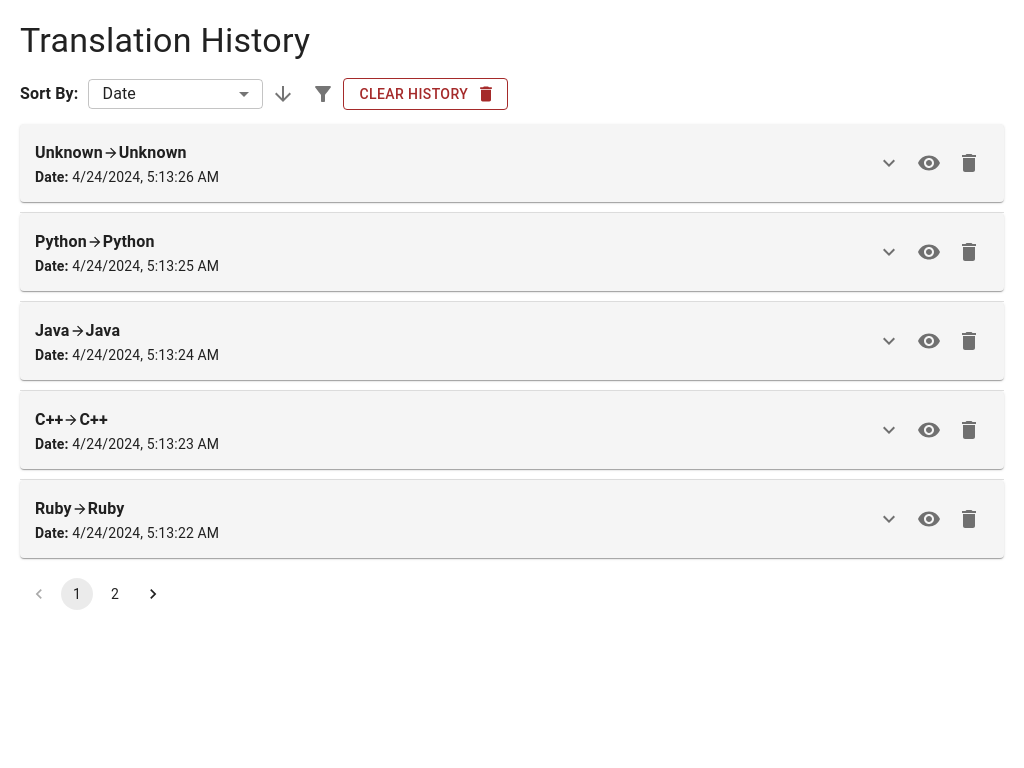
it: TranslationHistory Component › handles pagination correctly
Expected: the heading named "inputLabelPython" is shown, [35,228,87,256]
Click the button "2": (115, 594) [99,578,131,610]
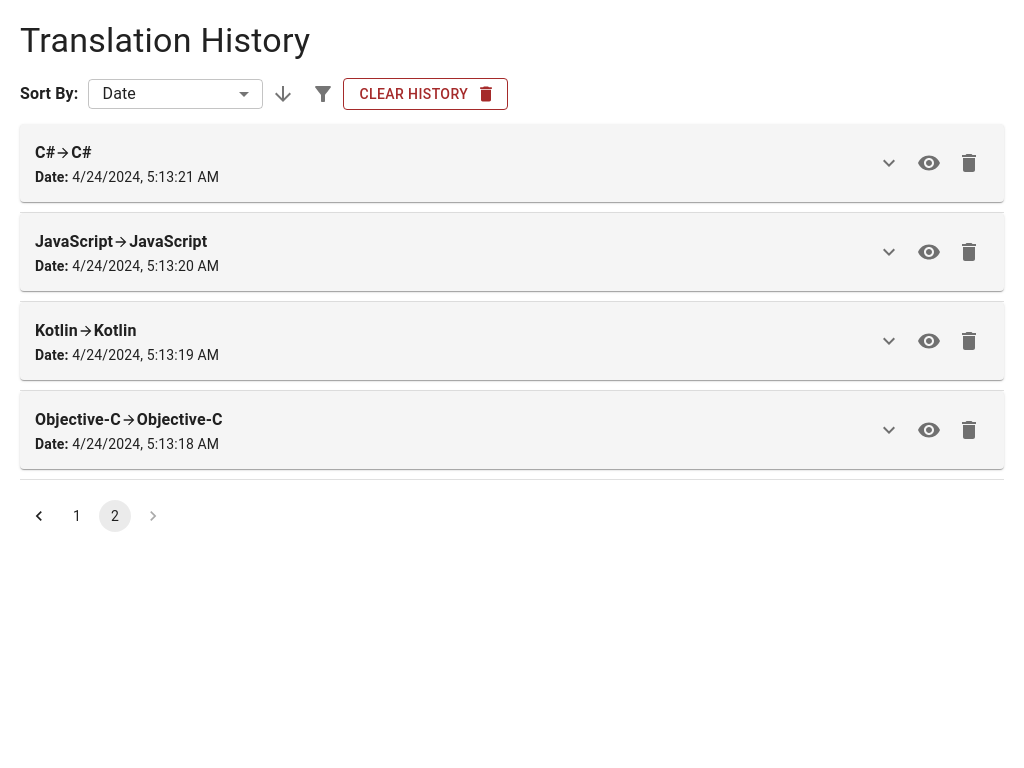
Now the heading labelled "inputLabelPython" is gone
Now the heading named "inputLabelJavaScript" is shown, box [35,228,113,256]
